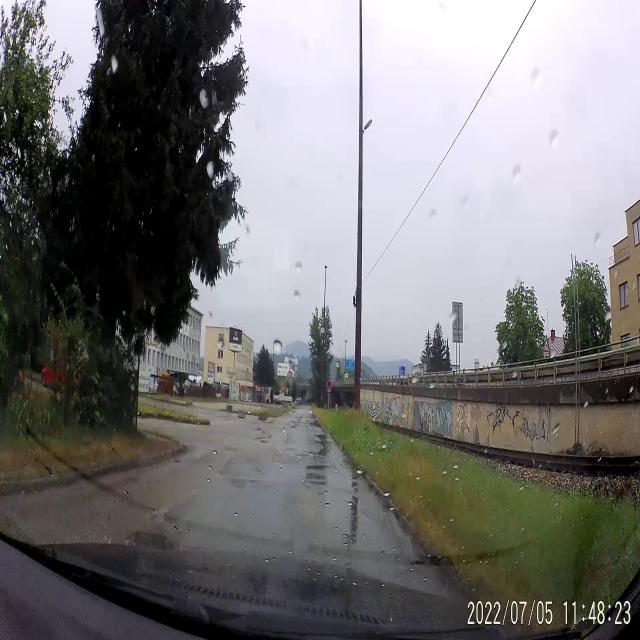Pothole: (306, 452, 342, 484)
